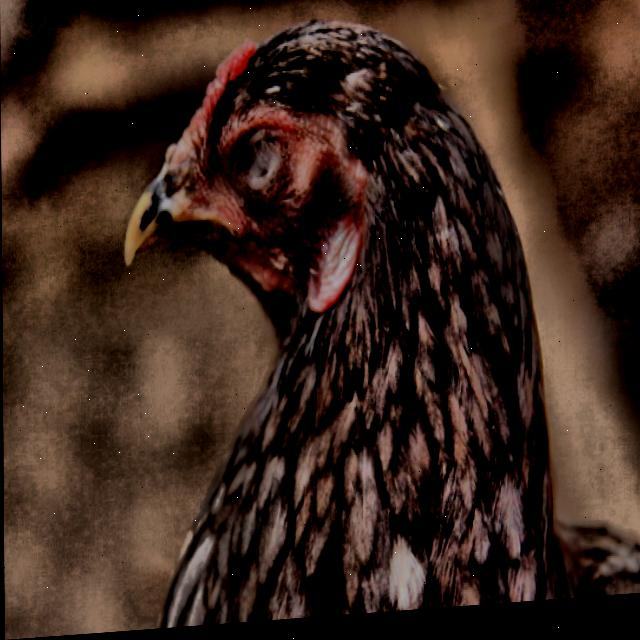Coryza: (126, 0, 502, 411)
